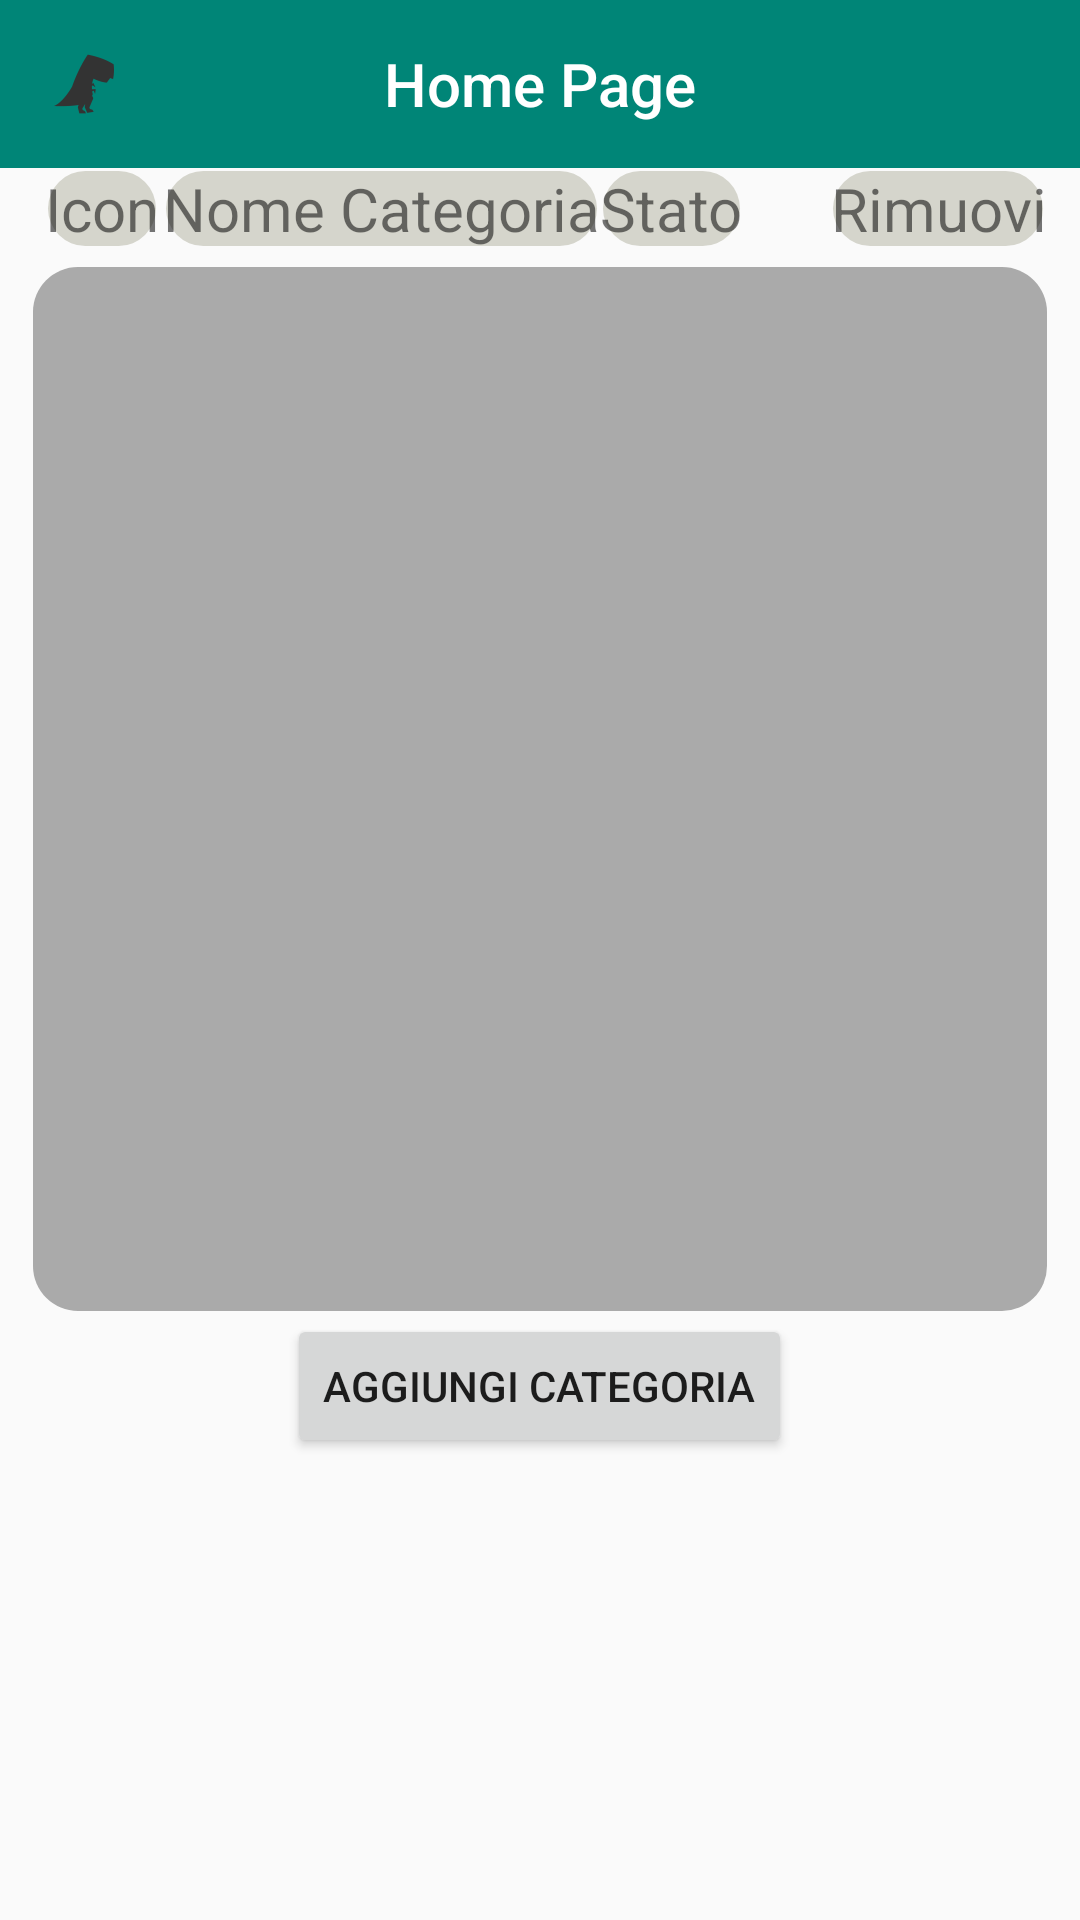

Locate icon controls on the screen. Image size 1080w x 1920h, boxes as detection(x1, y1, x2, y2).
rex: detection(55, 55, 114, 114)
